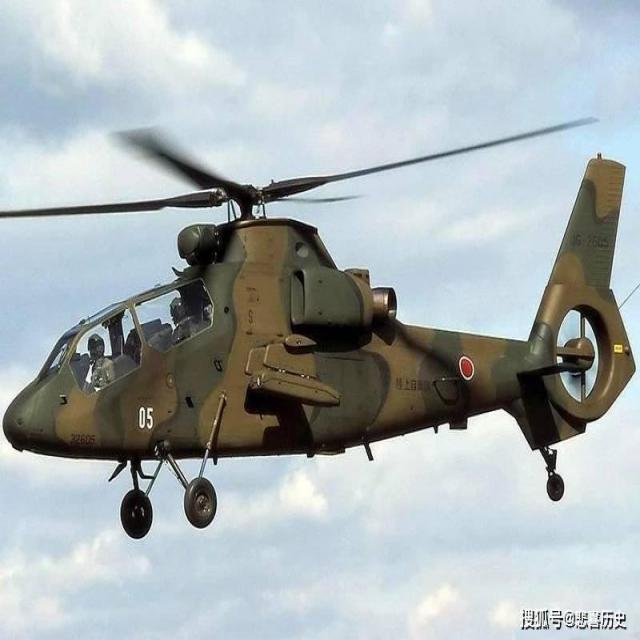MIL_HELO: (1, 114, 640, 546)
